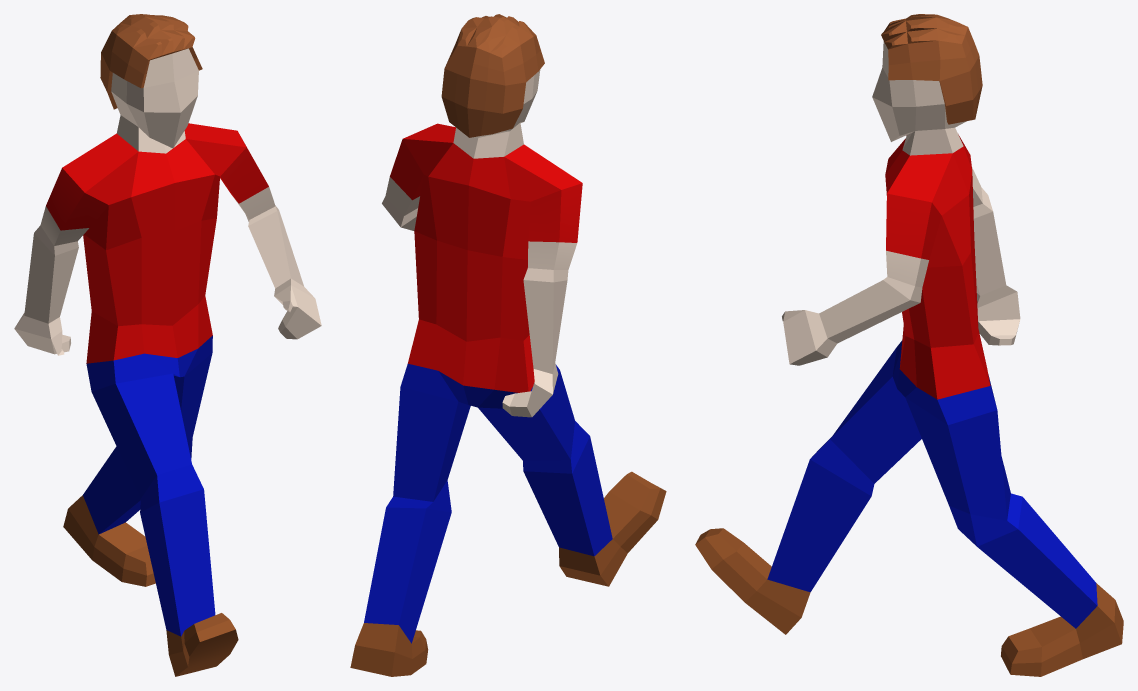
Rendered from Human_walking_23.fbx.
The picture shows the model from 3 angles, left to right: view 1: azimuth 30°, elevation 25°; view 2: azimuth 150°, elevation 25°; view 3: azimuth 270°, elevation 25°; orthographic projection. The views are drawn at different scales.
Parts seen in each view (by area): view 1: Person; view 2: Person; view 3: Person.
Boxes of the visible parts, x1,y1,x2,y2 form: Person: (14,14,321,676); Person: (350,14,666,676); Person: (695,14,1123,676).
Bounding box in the file's own units: 0.1152 × 0.3073 × 0.1901.
